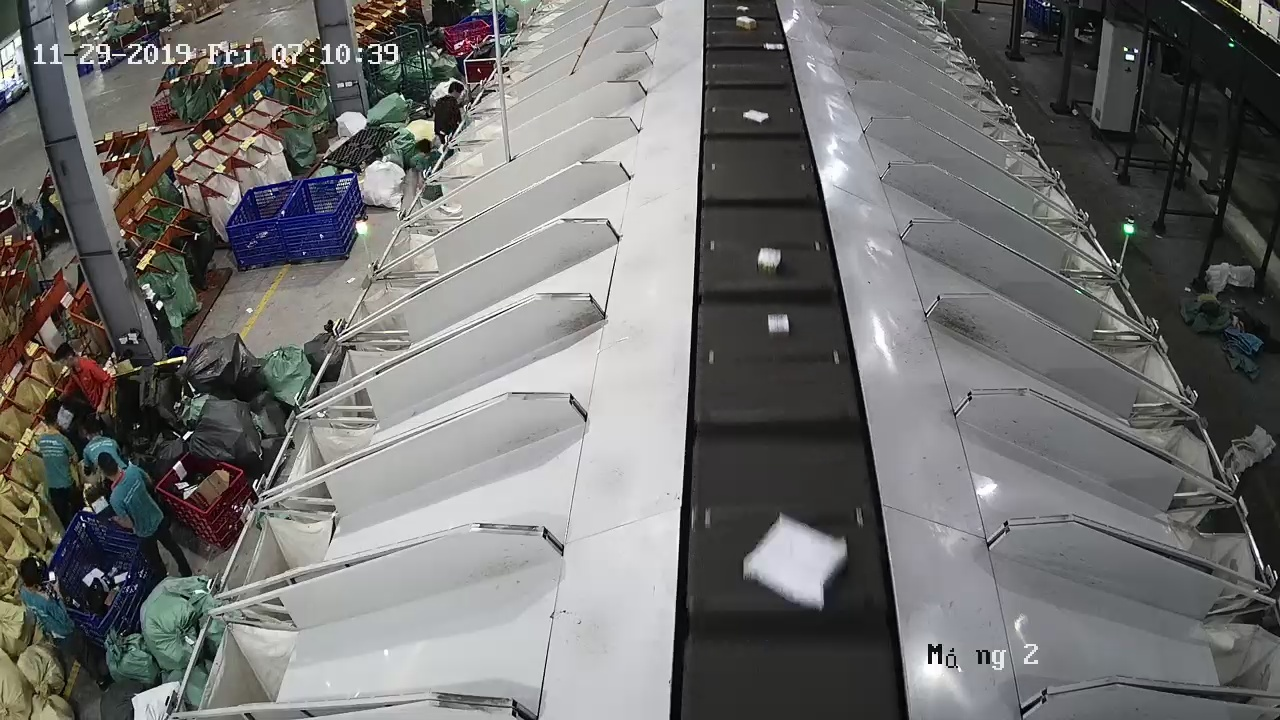parcel: (743, 513, 848, 611), (756, 247, 782, 275), (768, 314, 790, 339)
